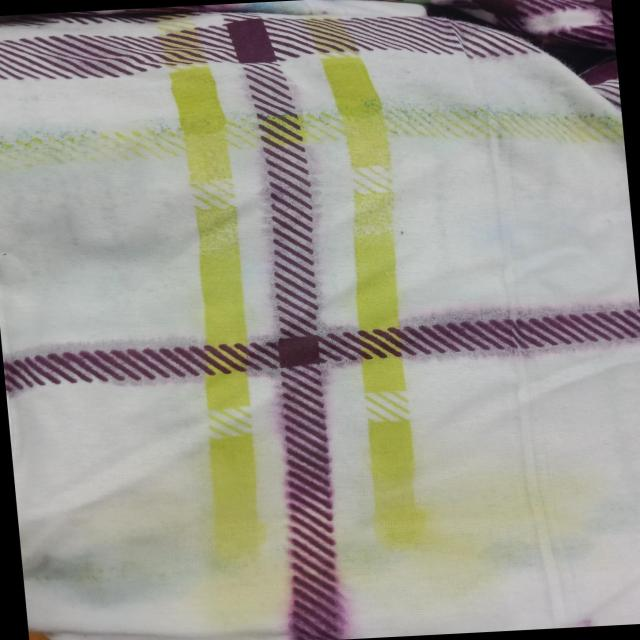baekra: (22, 277, 575, 640)
